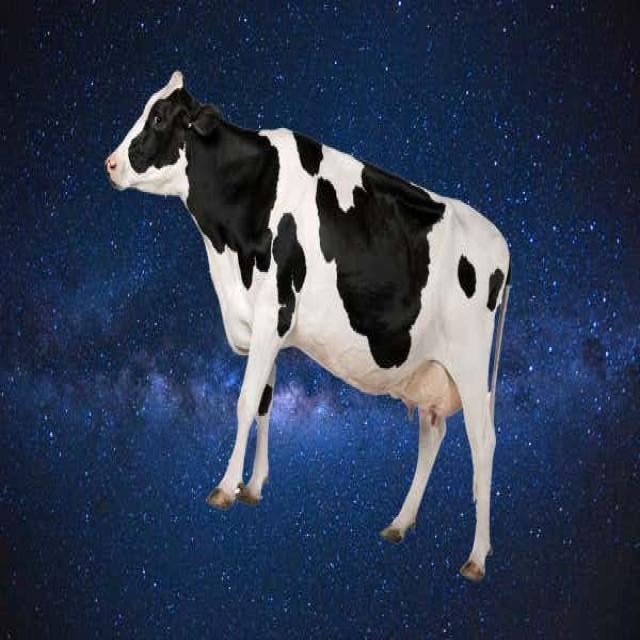cow: (107, 92, 526, 566)
